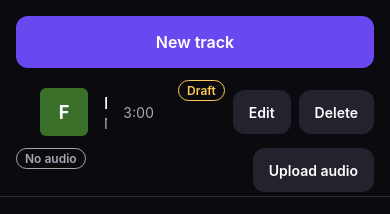
it: ArtistTracksScreen audio pipeline › polls the status endpoint until the pipeline reaches READY
Expected: the element with test id "artist-tracks-list" is shown, [0, 76, 389, 197]
Click the button with test id "audio-upload-t1".
click(313, 170)  # box [253, 148, 374, 192]
Wait 6000 ms
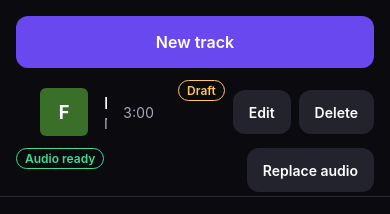
Now the text "Audio ready" is shown, box [25, 151, 95, 166]
Now the text "Replace audio" is shown, box [263, 162, 358, 178]
